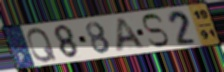2: (167, 7, 202, 48)
8: (54, 24, 80, 60), (86, 21, 112, 55)
A: (115, 17, 148, 54)
Q: (25, 26, 58, 63)
S: (140, 13, 171, 49)
